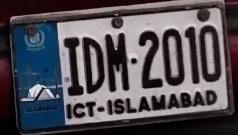IDM2010: (3, 3, 235, 133)
